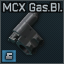MCX gas block: (0, 0, 64, 64)
